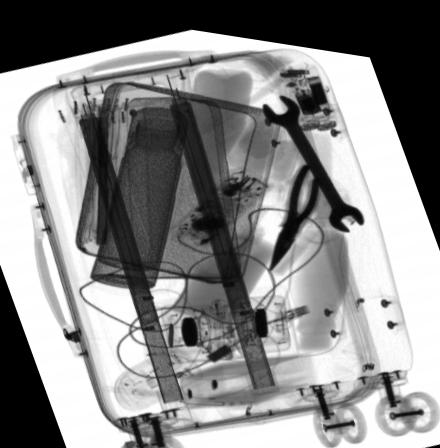Pliers: (267, 152, 321, 262)
Wrench: (260, 87, 363, 221)
